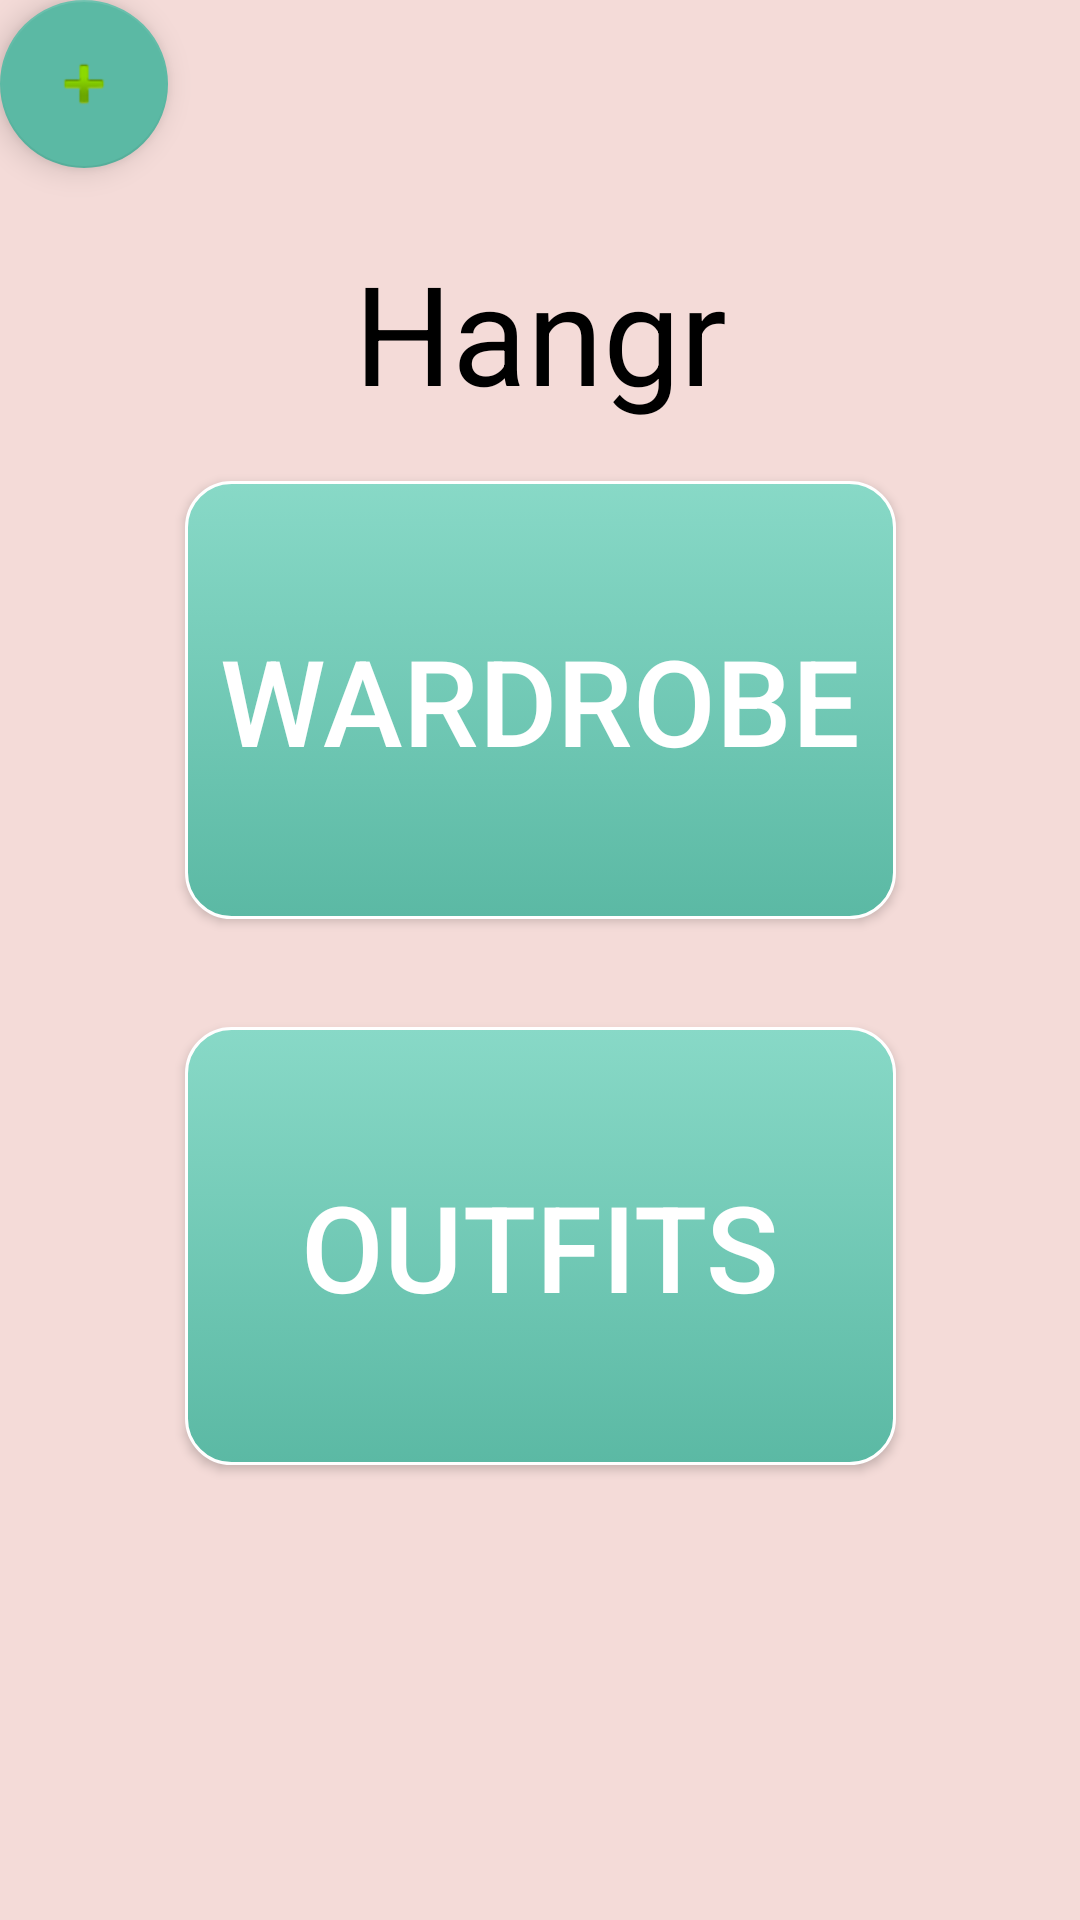

Locate icon controls on the screen. Image size 1080 x 1920, boxes as [x1,y1,x2,y2].
add: [0,0,168,168]
